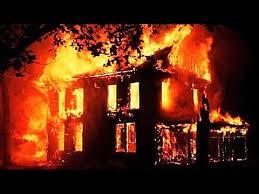fire: (44, 46, 85, 155), (141, 34, 207, 76), (88, 54, 108, 77)
